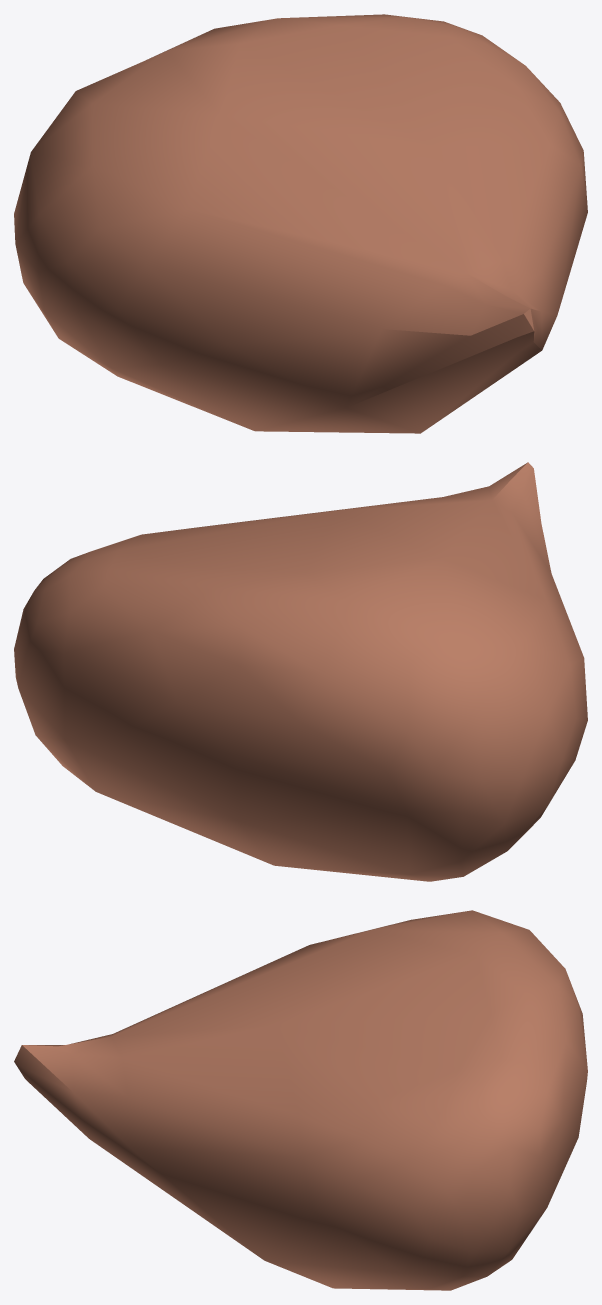
The model's file is urinary_bladder.glb.
3 renders of one model, top to bottom at view 1: azimuth 30°, elevation 25°; view 2: azimuth 150°, elevation 25°; view 3: azimuth 270°, elevation 25°, orthographic. The views are drawn at different scales.
Visible parts, largest first — view 1: urinary bladder; view 2: urinary bladder; view 3: urinary bladder.
Part boxes in pixels (x1,y1,x2,y2): urinary bladder: [14, 14, 587, 433]; urinary bladder: [14, 462, 587, 881]; urinary bladder: [14, 910, 587, 1290].
Size of the model in its own units: 0.0668 by 0.0403 by 0.0717.
